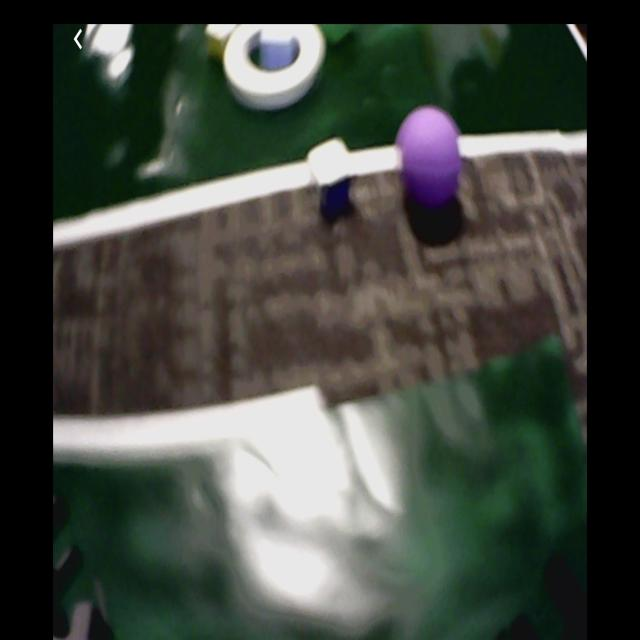ball: (400, 106, 461, 203)
